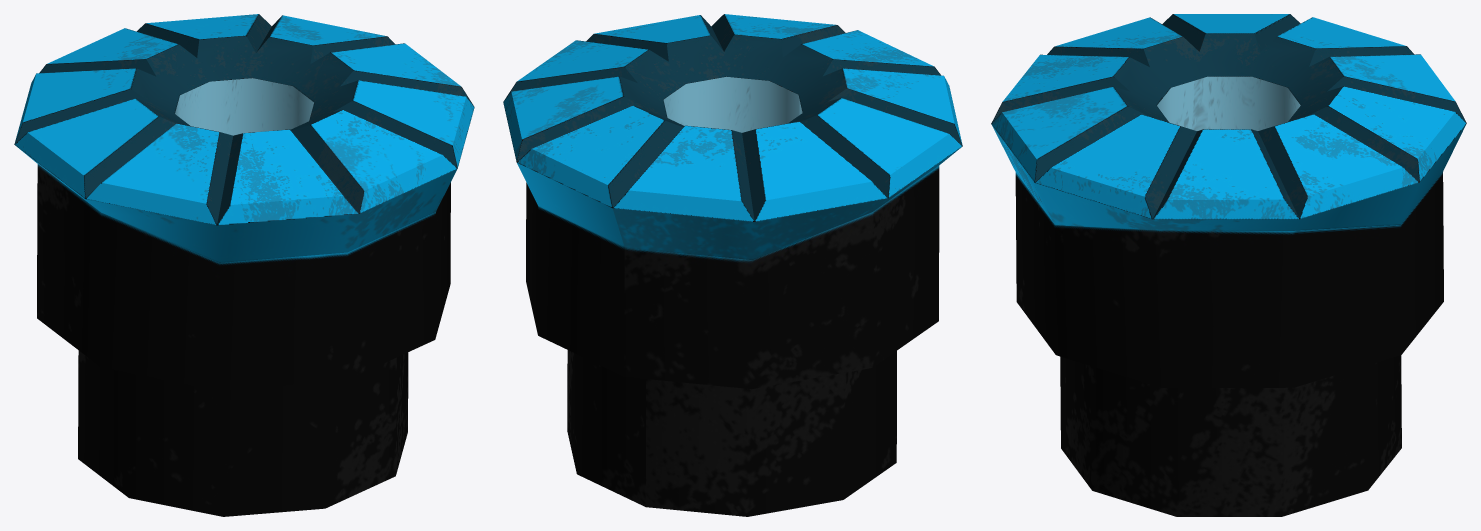
Rendered from PistolMag.fbx.
The picture shows the model from 3 angles, left to right: view 1: azimuth 30°, elevation 25°; view 2: azimuth 150°, elevation 25°; view 3: azimuth 270°, elevation 25°; orthographic projection.
Visible parts, largest first — view 1: pistolMag1; view 2: pistolMag1; view 3: pistolMag1.
Boxes of the visible parts, x1,y1,x2,y2 form: pistolMag1: (14,14,474,516); pistolMag1: (503,14,962,516); pistolMag1: (991,14,1466,516).
Size of the model in its own units: 10.32 by 9.25 by 10.81.
